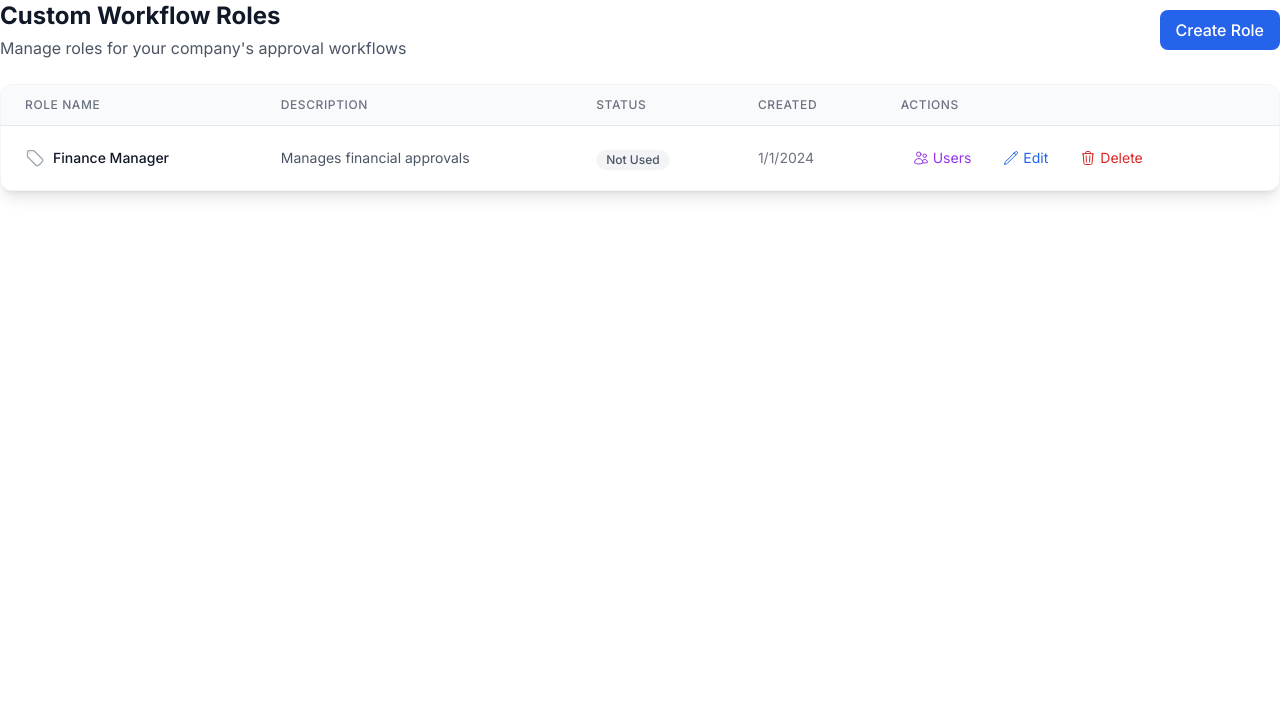
Test: RoleManagement - User Assignment › should open user management modal when "Manage Users" is clicked
Expected: the text "Finance Manager" is shown, x1=53 y1=148 x2=169 y2=168
What coordinates should you click on to do the following:
click the button "Users"
I would click on:
 (942, 158)
Its box is x1=901 y1=142 x2=983 y2=174.
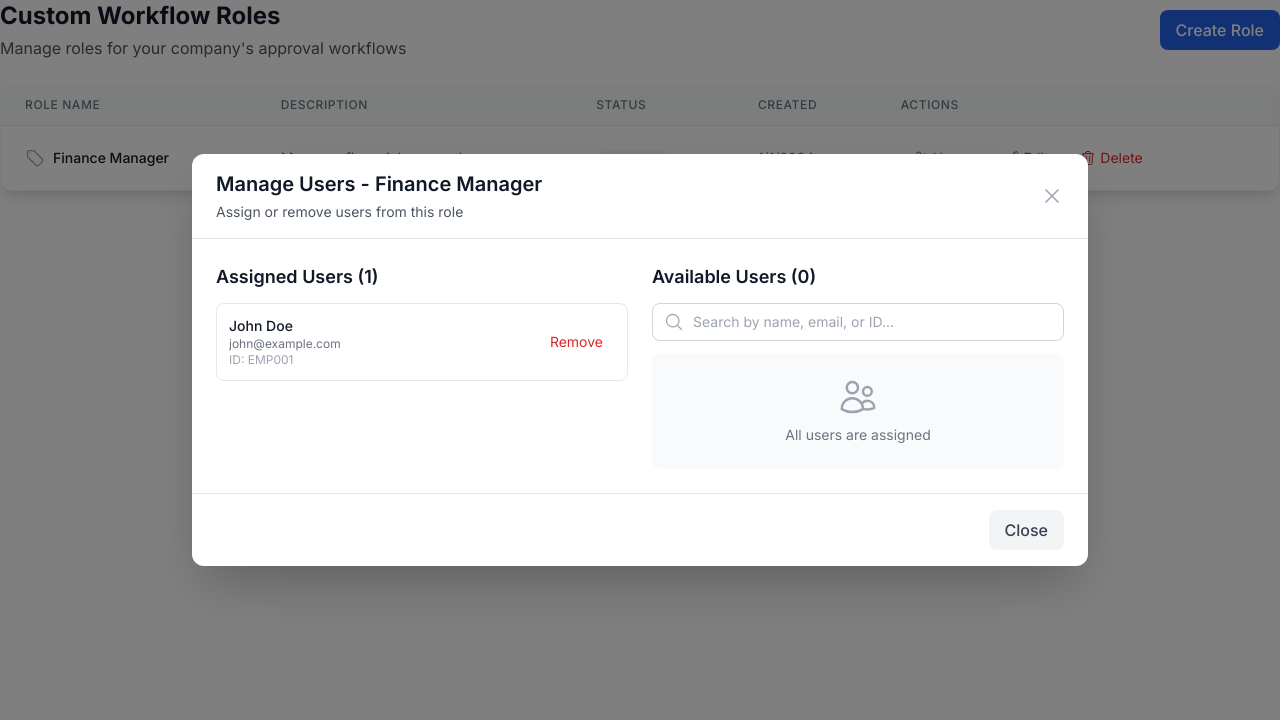
Expected: the heading "Manage Users - Finance Manager" is shown, x1=216 y1=170 x2=542 y2=198
